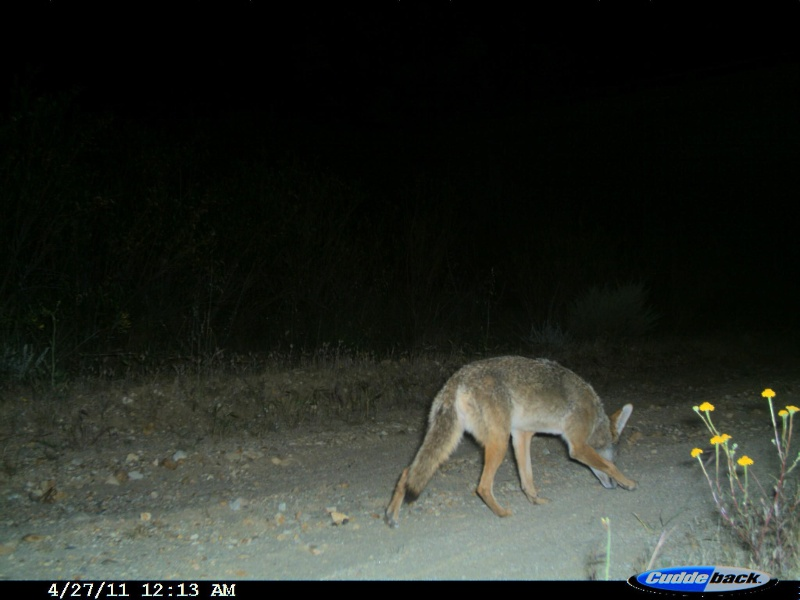coyote: (382, 351, 639, 534)
